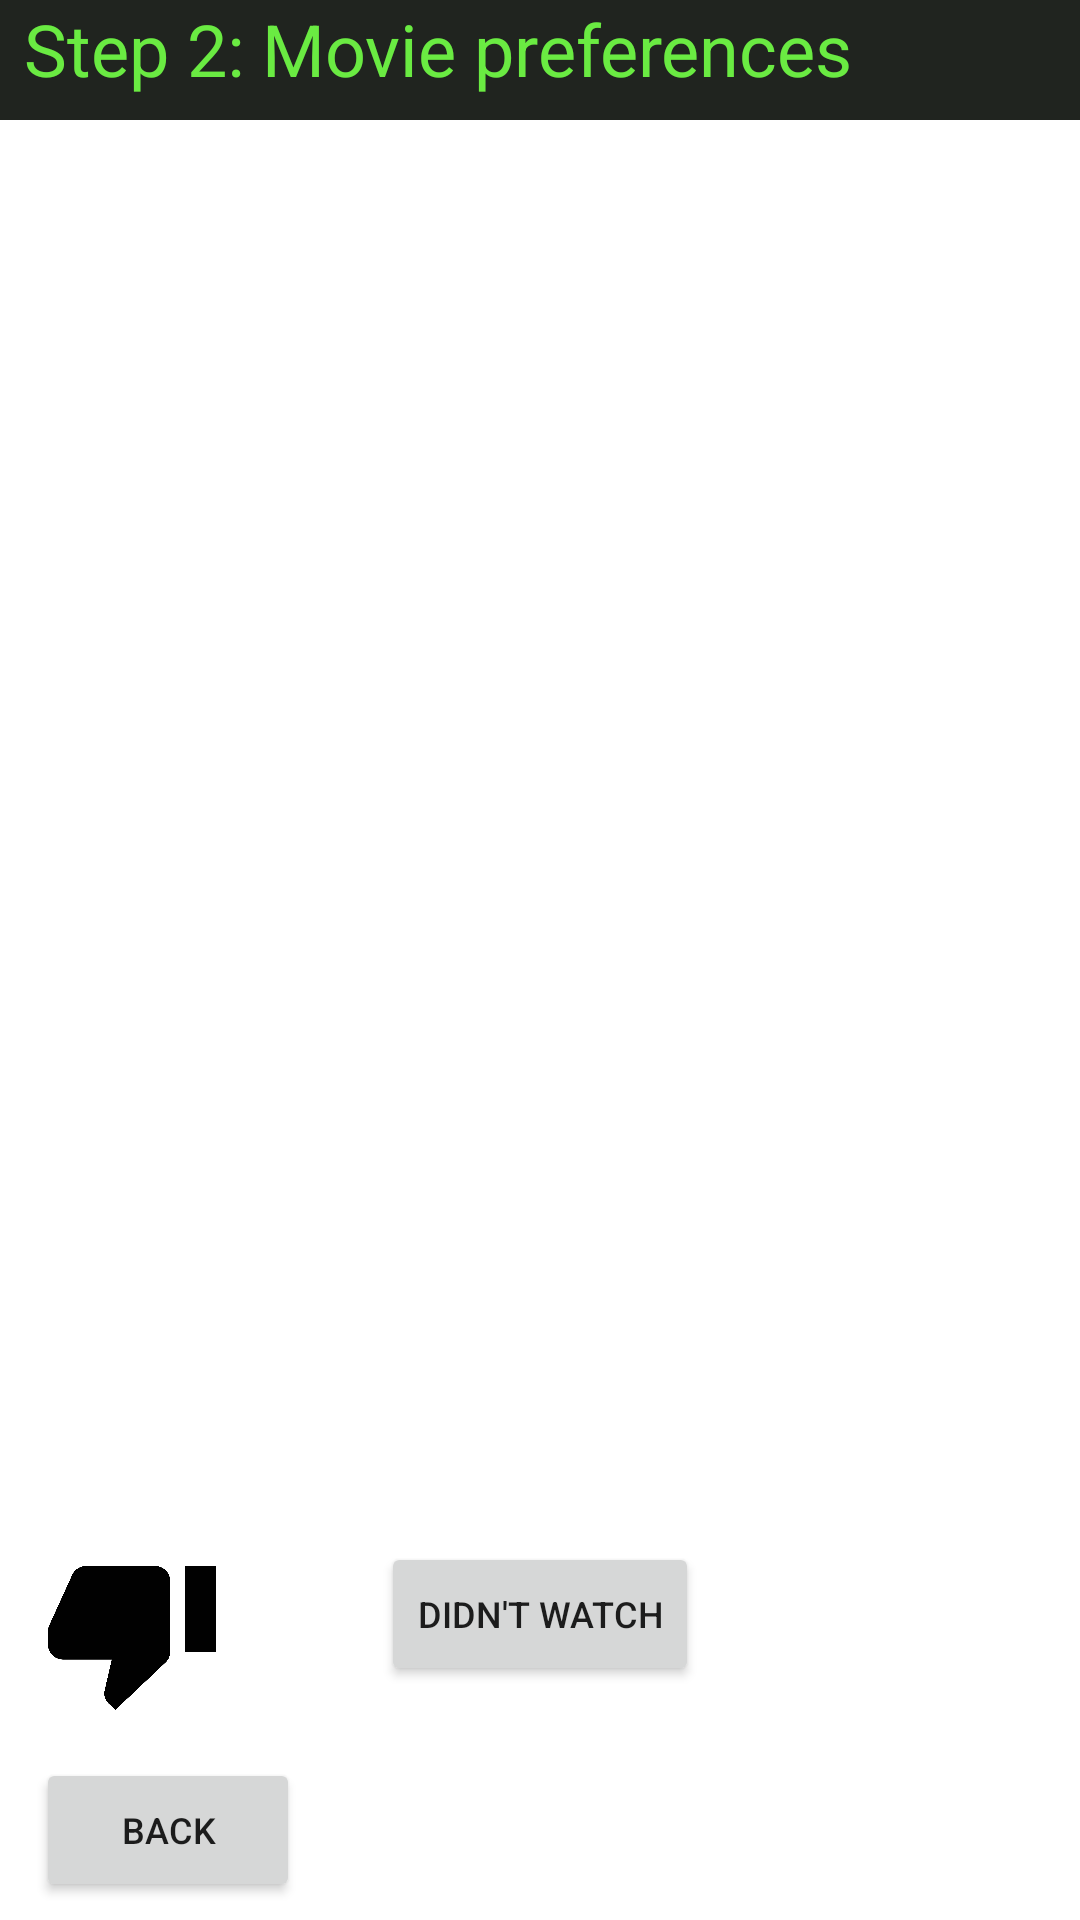

Icon click points for this 1080 x 1920 phone screenshot, format point (x, y):
thumbsdown: point (132, 1638)
